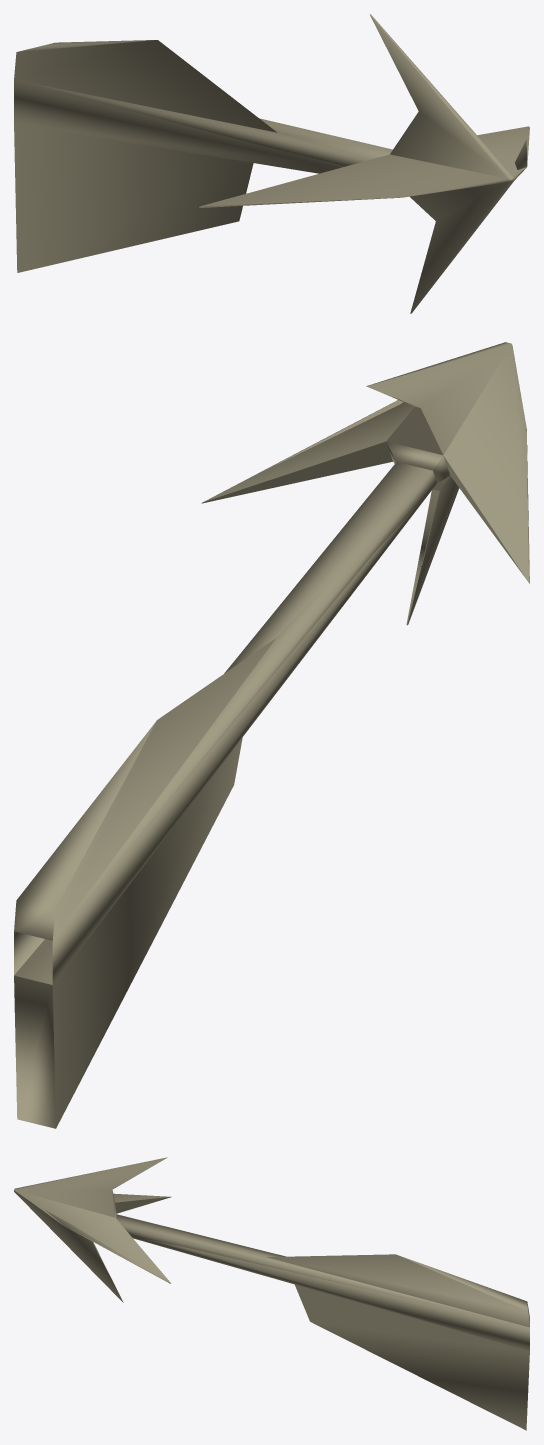
File: StylShip_NewProp.fbx
3 renders of one model, top to bottom at view 1: azimuth 30°, elevation 25°; view 2: azimuth 150°, elevation 25°; view 3: azimuth 270°, elevation 25°, orthographic. The views are drawn at different scales.
Parts seen in each view (by area): view 1: StylShip_Prow; view 2: StylShip_Prow; view 3: StylShip_Prow.
Boxes of the visible parts, x1,y1,x2,y2 form: StylShip_Prow: (14, 14, 529, 313); StylShip_Prow: (14, 342, 529, 1128); StylShip_Prow: (14, 1157, 529, 1430).
Bounding box in the file's own units: 485 × 698 × 1217.
